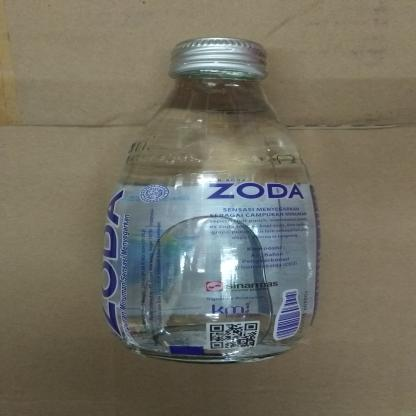keyboard: (87, 33, 334, 366)
